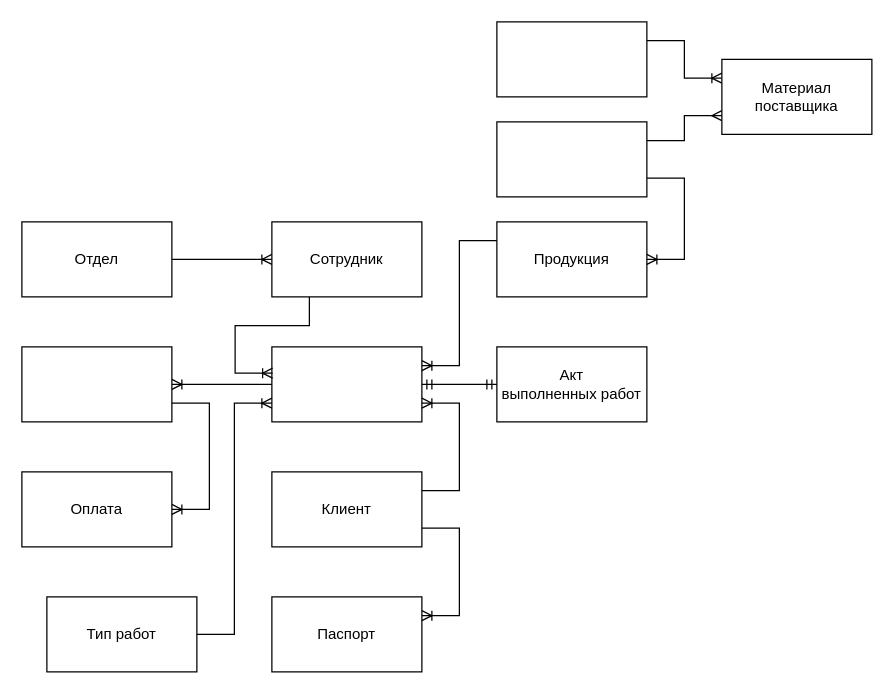
This 894x694 diagram has some shape labels left out. The box of each missing label's shape, as (x1, y1, x2, y2) in pixels:
Заказ: (271, 346, 422, 422)
Материал: (496, 121, 647, 197)
Поставщик: (496, 21, 647, 97)
Товарный чек: (21, 346, 172, 422)
